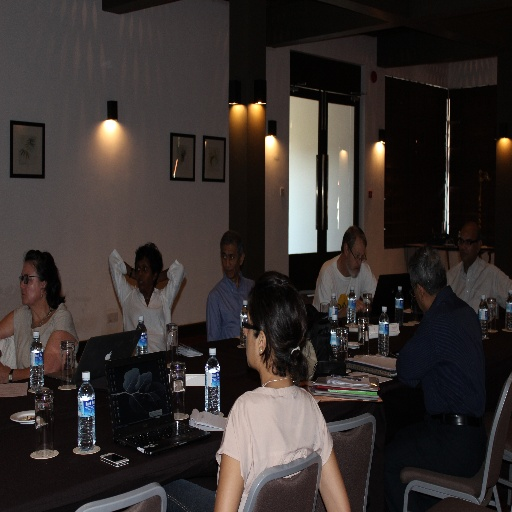hand: (0, 358, 10, 384), (354, 297, 366, 314)
